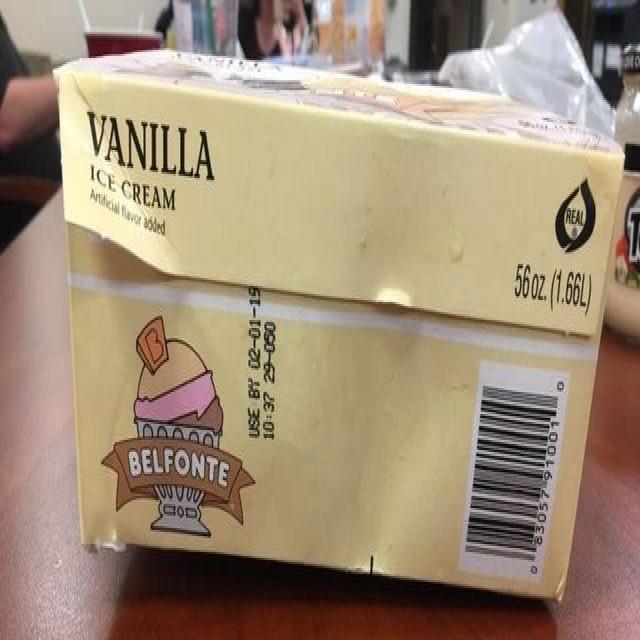cardboard: (68, 50, 612, 599)
